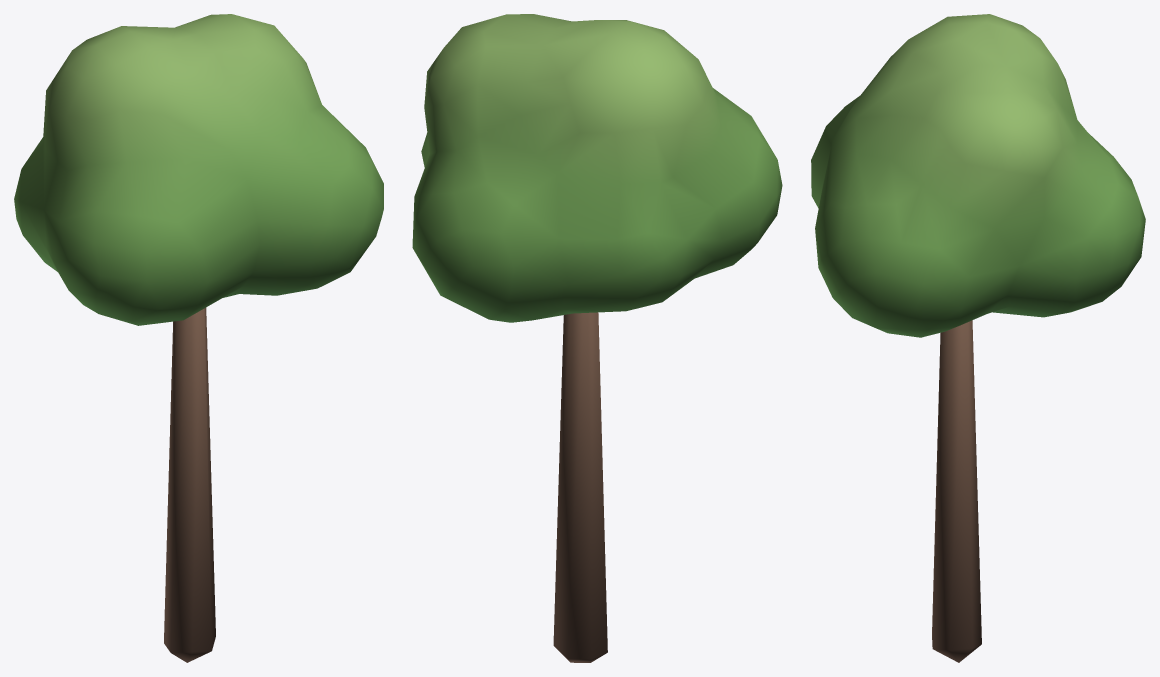
File: env_sky_mtree_c.glb
The picture shows the model from 3 angles, left to right: view 1: azimuth 30°, elevation 25°; view 2: azimuth 150°, elevation 25°; view 3: azimuth 270°, elevation 25°; orthographic projection. The views are drawn at different scales.
Visible parts, largest first — view 1: SM_sky_sky_mtn_vc_x0_z0.004; view 2: SM_sky_sky_mtn_vc_x0_z0.004; view 3: SM_sky_sky_mtn_vc_x0_z0.004.
Boxes of the visible parts, x1=… form: SM_sky_sky_mtn_vc_x0_z0.004: x1=14, y1=14, x2=383, y2=662; SM_sky_sky_mtn_vc_x0_z0.004: x1=412, y1=14, x2=782, y2=662; SM_sky_sky_mtn_vc_x0_z0.004: x1=811, y1=14, x2=1145, y2=662.
Bounding box in the file's own units: 2.13 × 4.05 × 2.
